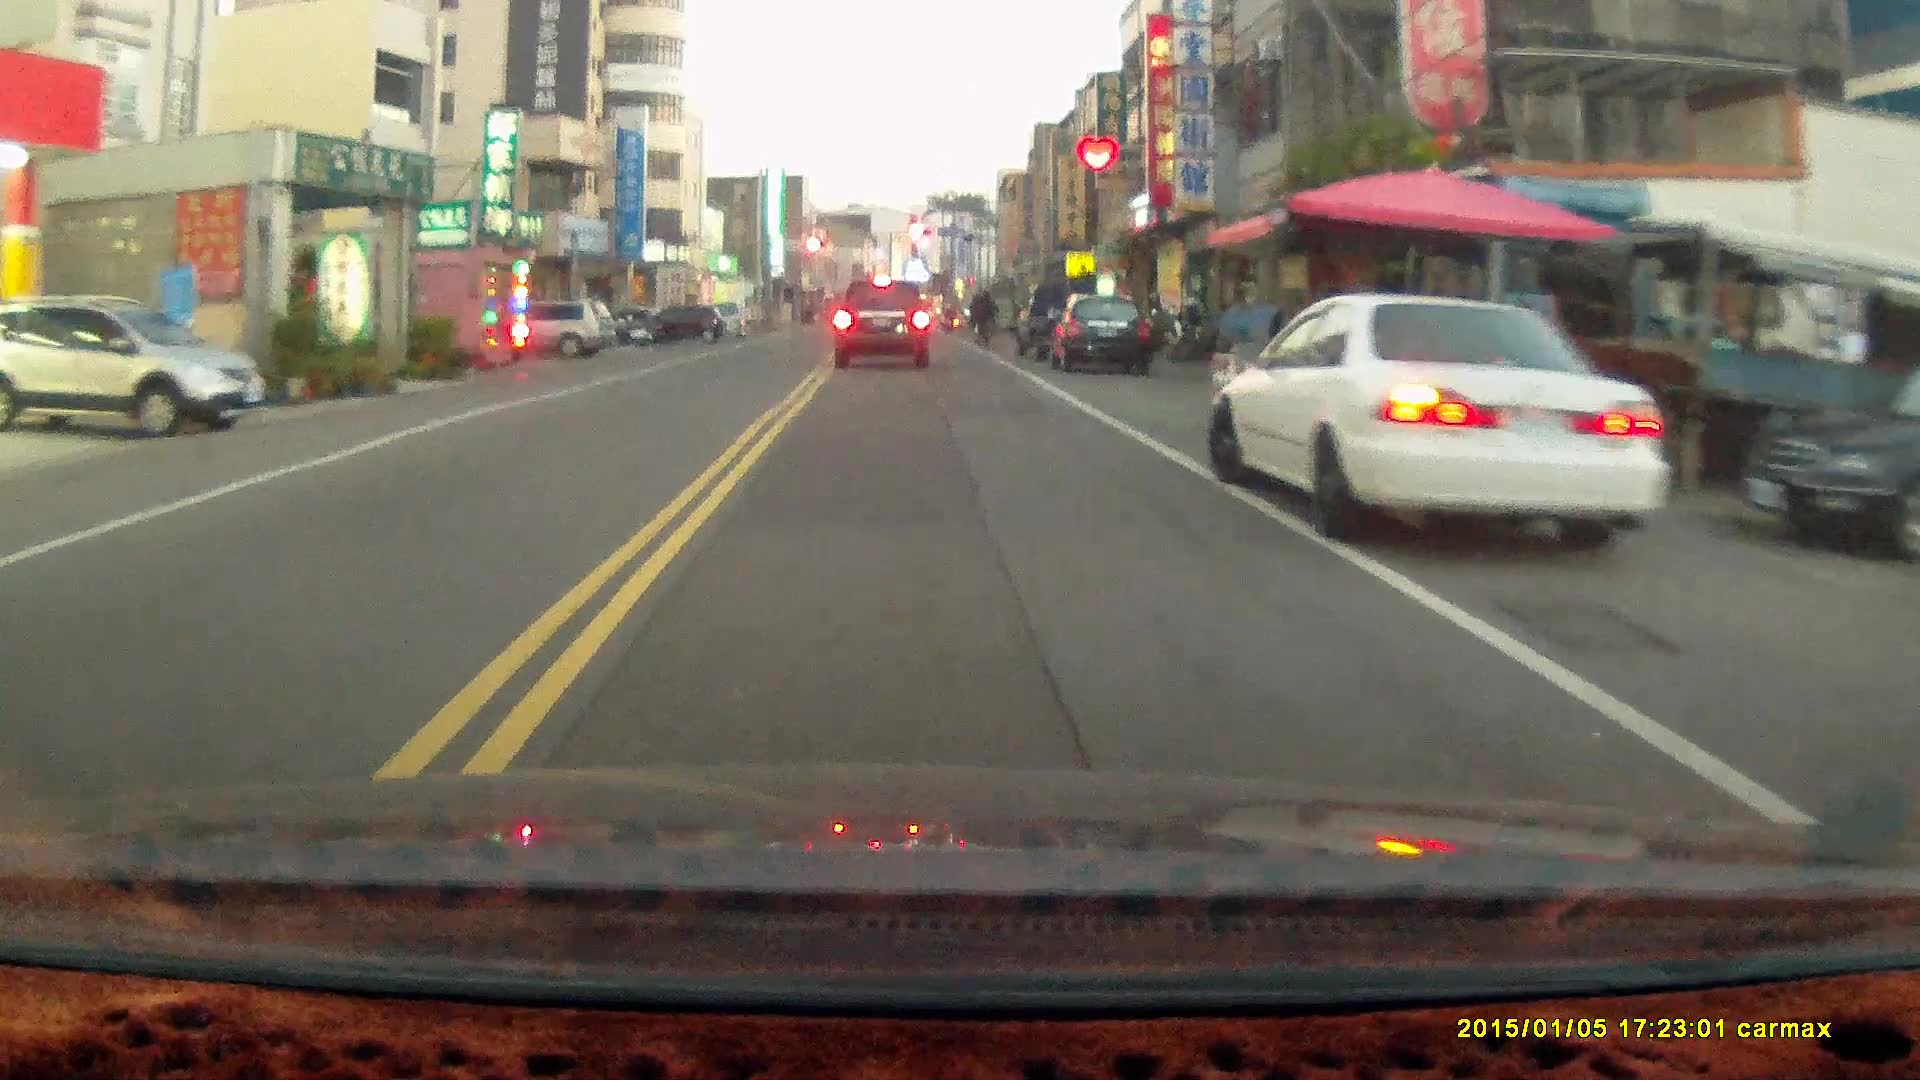rider: (970, 287, 999, 353)
vehicle: (1211, 284, 1672, 557), (1735, 353, 1920, 581), (1, 287, 270, 437), (835, 275, 932, 370), (1048, 291, 1160, 372), (494, 298, 616, 358)
